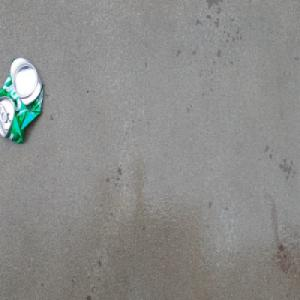SodaCan: (0, 54, 44, 145)
